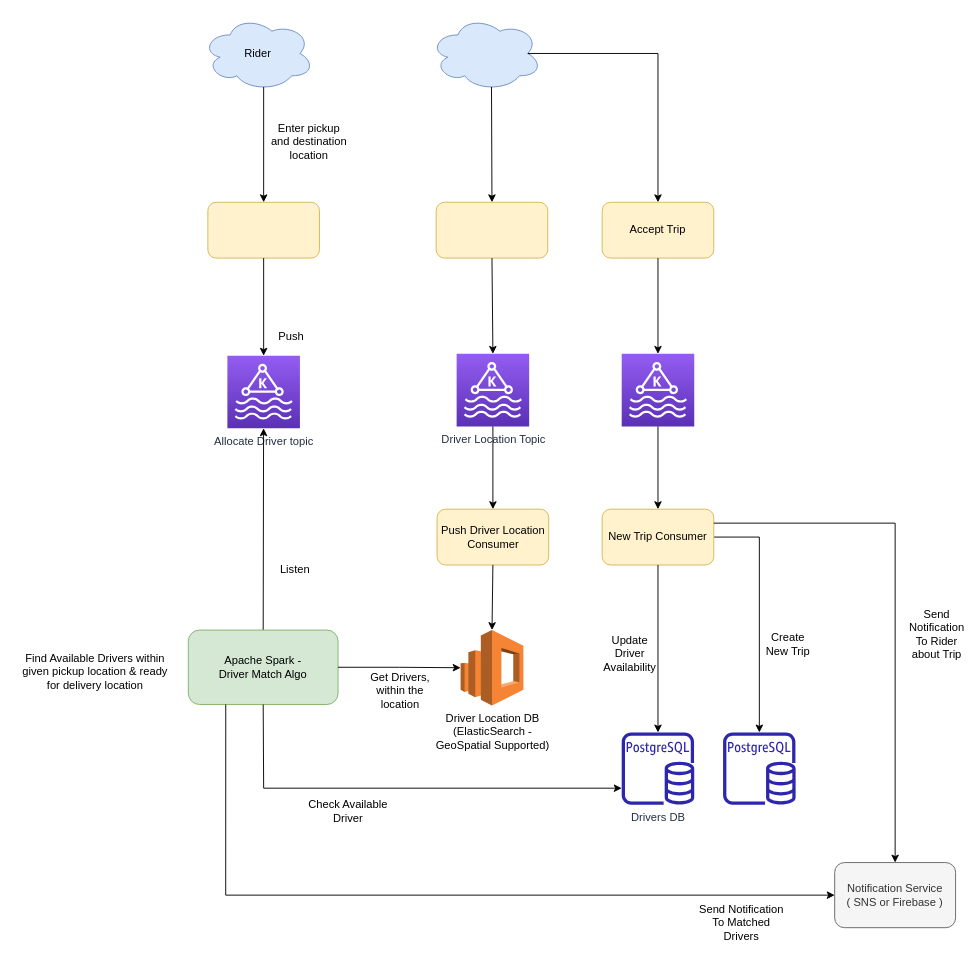
Some shapes in this 980 by 959 pixel diagram are drawn without their labels. The shapes that lost their labels are listed below. From the top down, each one's centre as x and y in pixels, then its label:
At [485,53]: "Driver".
At [263,229]: "Book Cab".
At [491,229]: "Push Location".
At [657,389]: "New Trip Topic".
At [759,768]: "Trips DB".
